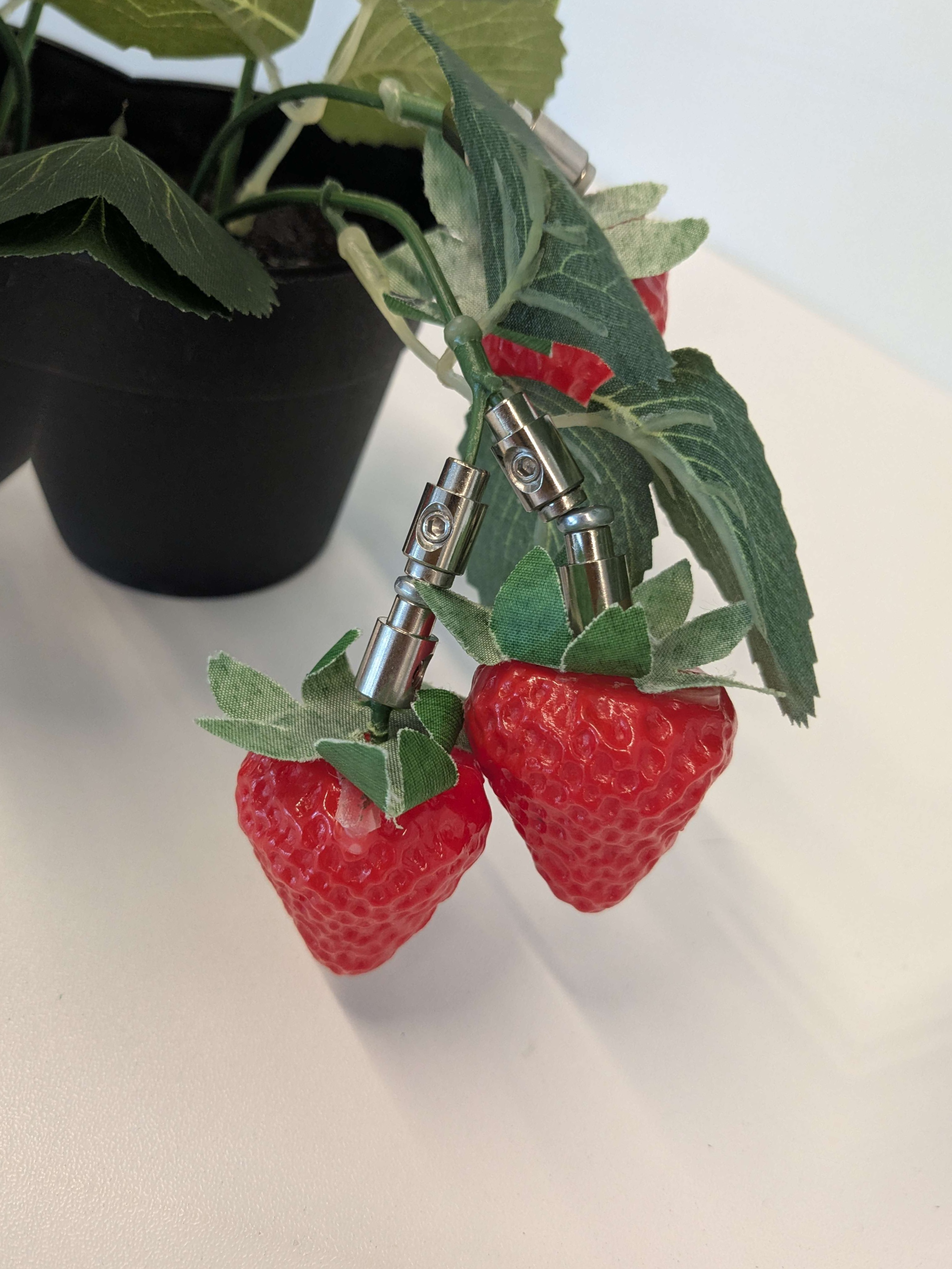Strawberry: (140, 643, 522, 1037), (412, 611, 771, 972), (456, 204, 704, 437)
